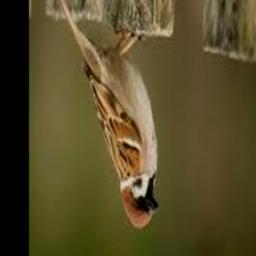Sparrow: (57, 0, 159, 230)
